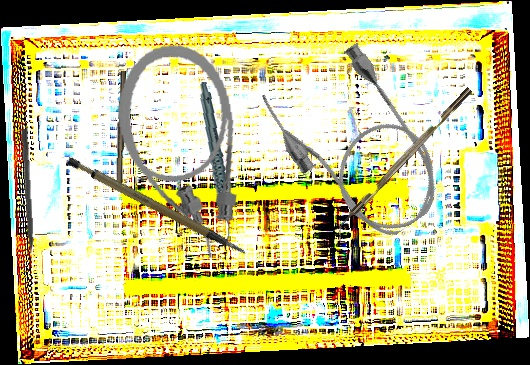Cannula: (252, 33, 461, 259), (110, 36, 250, 268)
Chopper: (329, 87, 479, 242)
Handpiece: (188, 81, 243, 246)
Pusher: (19, 128, 36, 270)
Scalpel Handle: (64, 134, 248, 283), (114, 70, 127, 189)
